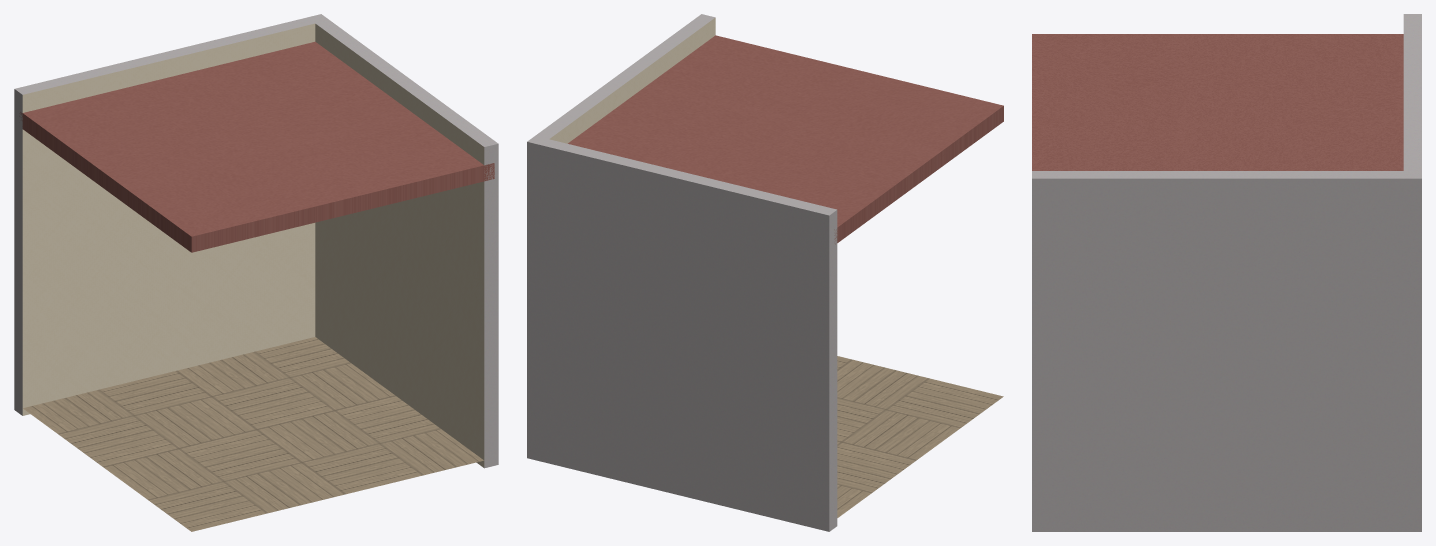
Rendered from house_w2_1.fbx.
3 views of the same model, side by side, from view 1: azimuth 30°, elevation 25°; view 2: azimuth 150°, elevation 25°; view 3: azimuth 270°, elevation 25° (orthographic). The views are drawn at different scales.
Parts seen in each view (by area): view 1: wall_2.001, wall_2.002; view 2: wall_2.001, wall_2.002; view 3: wall_2.001.
Part boxes in pixels (x1=…): wall_2.001: x1=14, y1=14, x2=498, y2=468; wall_2.002: x1=23, y1=337, x2=483, y2=531; wall_2.001: x1=527, y1=14, x2=1003, y2=531; wall_2.002: x1=837, y1=356, x2=1003, y2=517; wall_2.001: x1=1032, y1=14, x2=1421, y2=531.
Bounding box in the file's own units: 2 × 2 × 2.
Materials: 2 (2 with a texture image).
